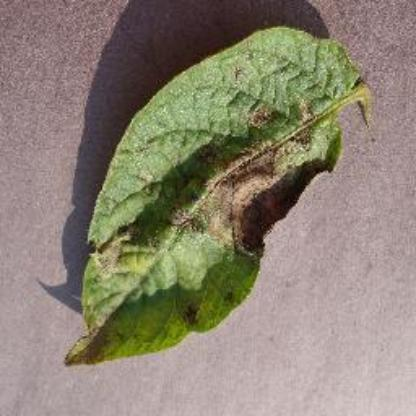Late-Blight: (57, 22, 379, 366)
